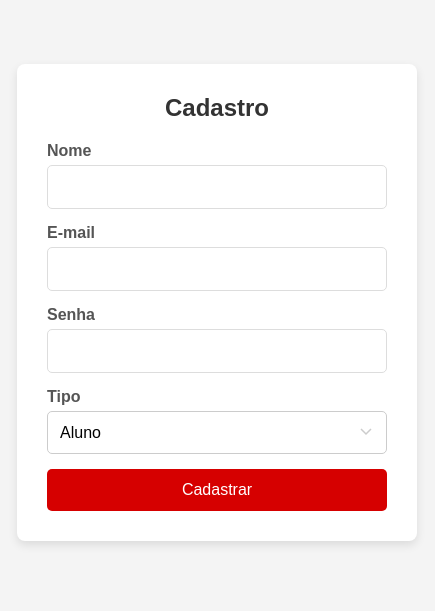
it: Cadastro de professor (AC-AUTH-07) › barra quem não está em autorizados e não cria usuário nenhum
The image size is (435, 611).
Type "Falso Professor" into the field labelled "Nome".
click(217, 186); type("Falso Professor")  # box [47, 164, 387, 208]
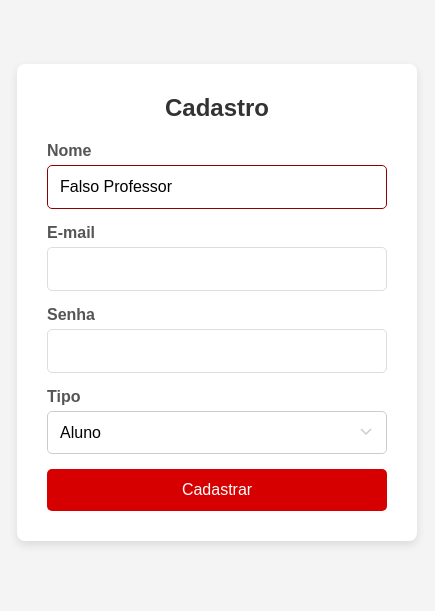
Type "intruso@senai.br" into the field labelled "E-mail".
click(217, 268); type("intruso@senai.br")  # box [47, 246, 387, 290]
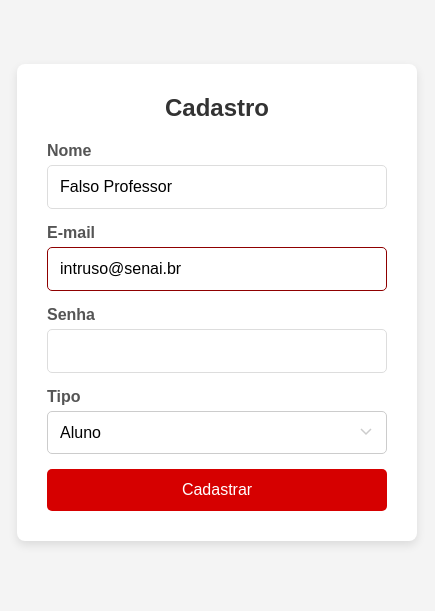
Type "senha123" into the password field labelled "Senha".
click(217, 350); type("senha123")  # box [47, 328, 387, 372]
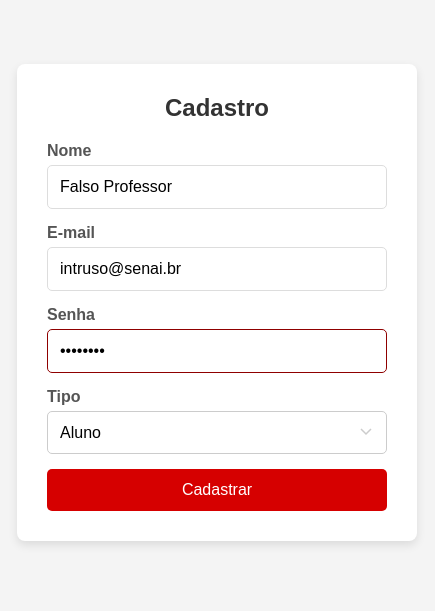
Select "Professor" in the dropdown labelled "Tipo" at (217, 432), box [47, 410, 387, 454]
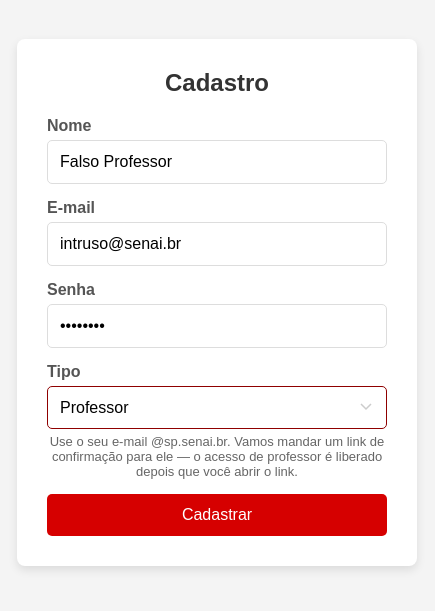
Click the button "Cadastrar".
click(217, 514)  # box [47, 494, 387, 536]
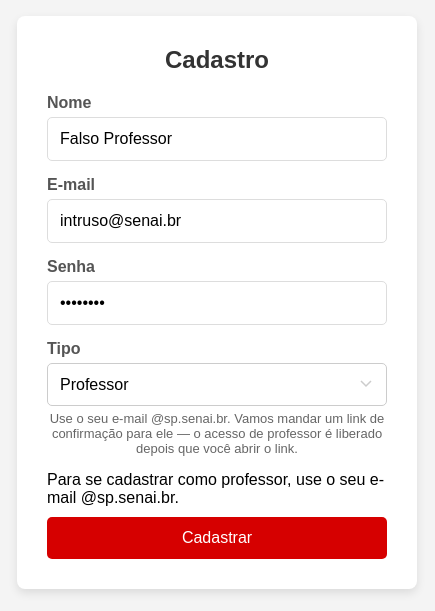
Check: the text "Para se cadastrar como professor, use o seu e-mail @sp.senai.br." is shown, box [47, 470, 387, 506]
